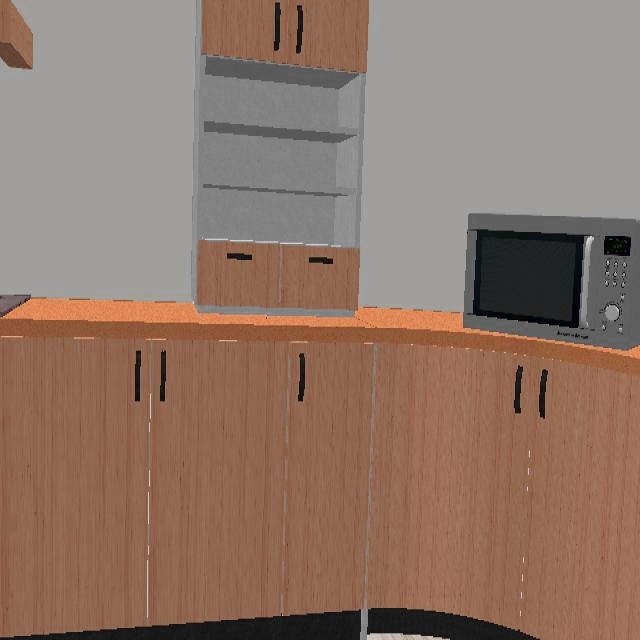cabinet: (0, 338, 640, 637)
countertop: (0, 298, 640, 376)
microwave: (464, 216, 640, 349)
